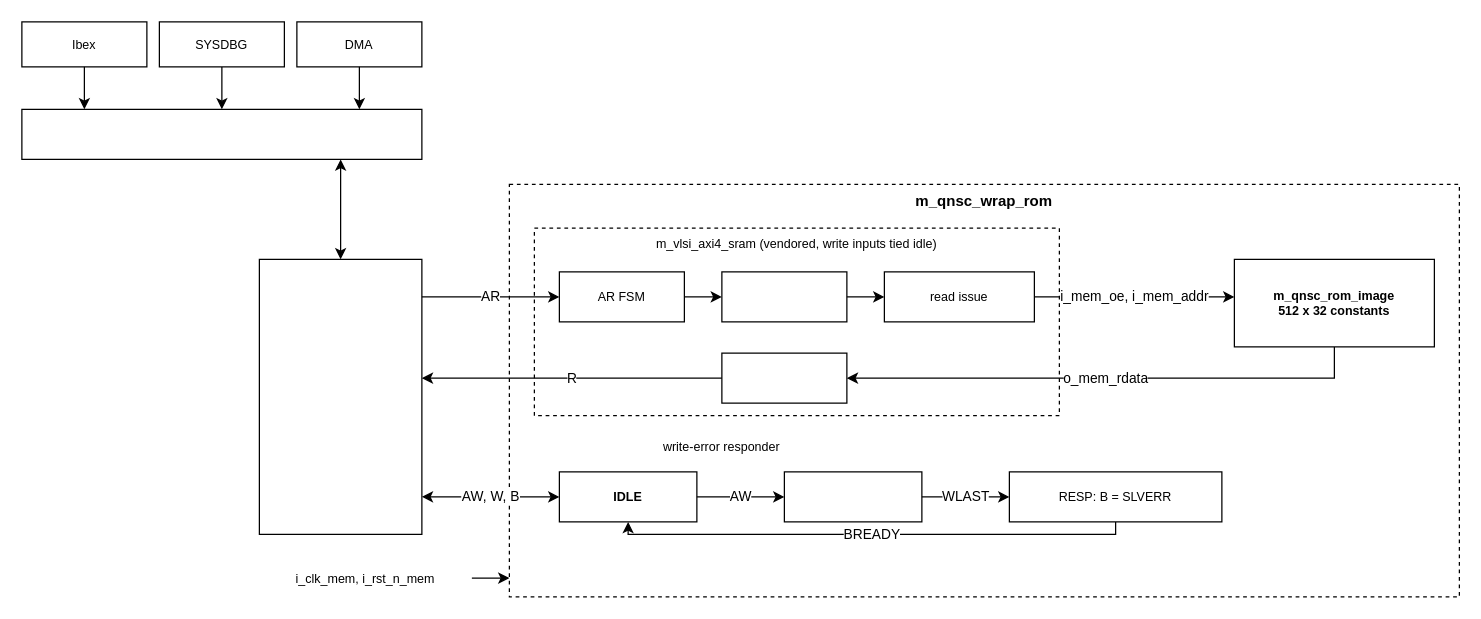
Image size: 1481x619. Some labels were removed from this diagram. The box of each missing label's shape, as (x1, y1, x2, y2) in pixels:
AR FIFO: (721, 271, 847, 322)
AXI_M0: (258, 258, 422, 534)
DATA: (783, 471, 922, 522)
R FIFO: (721, 352, 847, 403)
S_BUS (decode error above 0x7FF): (21, 108, 422, 159)
